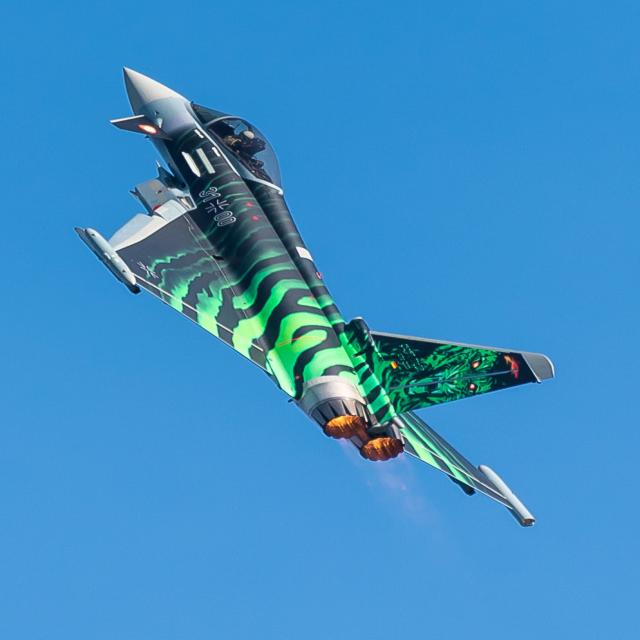MIL_Plane: (74, 67, 554, 527)
